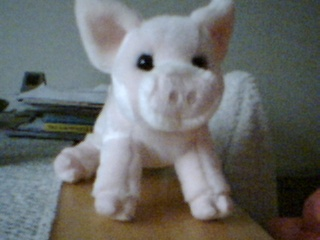piggy: (53, 1, 245, 224)
